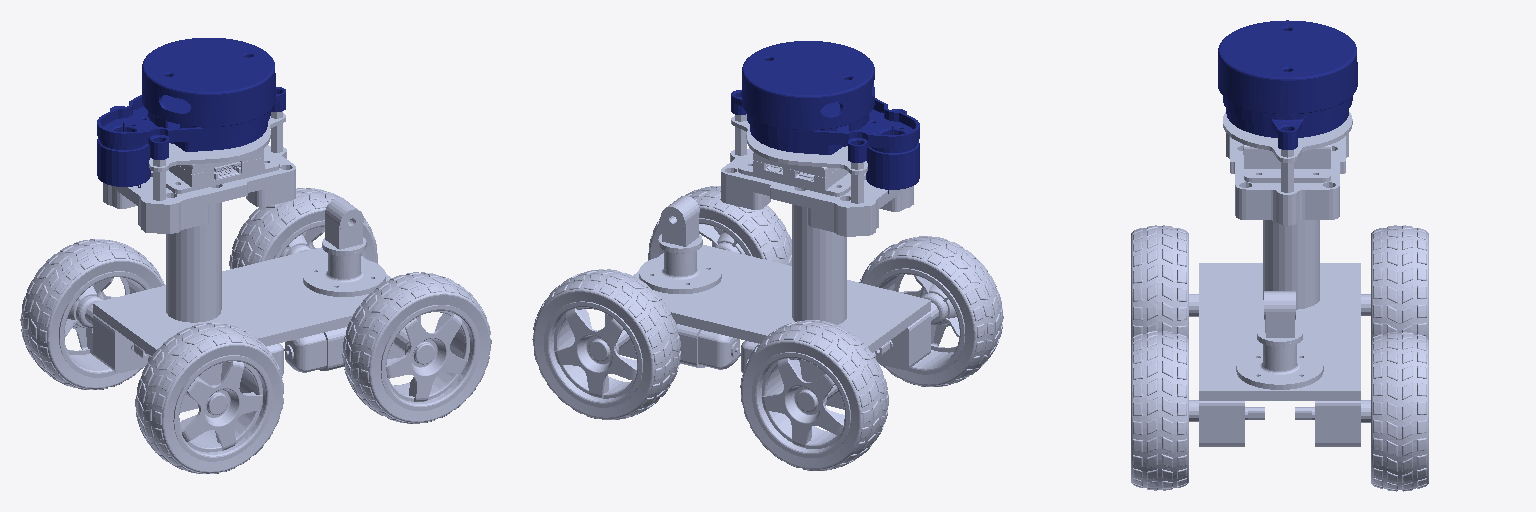
robot.urdf — carlike:
<?xml version="1.0" encoding="utf-8"?>
<robot name="carlike">
  <link
    name="base_link">
    <inertial>
      <origin
        xyz="-0.00875115335701394 0.00145434175744656 0.0197970202504017"
        rpy="0 0 0" />
      <mass
        value="0.247214592704957" />
      <inertia
        ixx="5.09846319877481E-05"
        ixy="3.14502704634609E-10"
        ixz="-2.29128940534497E-08"
        iyy="0.000138337528123073"
        iyz="6.07030102044357E-09"
        izz="0.000156119311243302" />
    </inertial>
    <visual>
      <origin
        xyz="0 0 0"
        rpy="0 0 0" />
      <geometry>
        <mesh
          filename="package://carlike/meshes/base_link.STL" />
      </geometry>
      <material
        name="base_link_material">
        <color
          rgba="0.792156862745098 0.819607843137255 0.933333333333333 1" />
      </material>
    </visual>
    <collision>
      <origin
        xyz="0 0 0"
        rpy="0 0 0" />
      <geometry>
        <mesh
          filename="package://carlike/meshes/base_link.STL" />
      </geometry>
    </collision>
  </link>
  <link
    name="r1_link">
    <inertial>
      <origin
        xyz="-1.61017610694411E-08 -9.37641352755092E-09 -0.00737298761809616"
        rpy="0 0 0" />
      <mass
        value="0.166945648008939" />
      <inertia
        ixx="6.72956832426971E-05"
        ixy="1.48103139716417E-09"
        ixz="2.77332492198932E-12"
        iyy="6.72934094491944E-05"
        iyz="1.61142783291259E-12"
        izz="0.000113206411587748" />
    </inertial>
    <visual>
      <origin
        xyz="0 0 0"
        rpy="0 0 0" />
      <geometry>
        <mesh
          filename="package://carlike/meshes/r1_link.STL" />
      </geometry>
      <material
        name="r1_link_material">
        <color
          rgba="0.792156862745098 0.819607843137255 0.933333333333333 1" />
      </material>
    </visual>
    <collision>
      <origin
        xyz="0 0 0"
        rpy="0 0 0" />
      <geometry>
        <mesh
          filename="package://carlike/meshes/r1_link.STL" />
      </geometry>
    </collision>
  </link>
  <joint
    name="r1_joint"
    type="continuous">
    <origin
      xyz="0.0535 -0.0597 -0.01"
      rpy="1.5707963267949 0 0" />
    <parent
      link="base_link" />
    <child
      link="r1_link" />
    <axis
      xyz="0 0 1" />
  </joint>
  <link
    name="r2_link">
    <inertial>
      <origin
        xyz="1.79692601492976E-08 4.92844177968355E-09 -0.00737298761809657"
        rpy="0 0 0" />
      <mass
        value="0.166945648008928" />
      <inertia
        ixx="6.72962683305461E-05"
        ixy="7.21635123749427E-10"
        ixz="-3.0940699050529E-12"
        iyy="6.72928243613378E-05"
        iyz="-8.45439850234771E-13"
        izz="0.000113206411587741" />
    </inertial>
    <visual>
      <origin
        xyz="0 0 0"
        rpy="0 0 0" />
      <geometry>
        <mesh
          filename="package://carlike/meshes/r2_link.STL" />
      </geometry>
      <material
        name="r2_link_material">
        <color
          rgba="0.792156862745098 0.819607843137255 0.933333333333333 1" />
      </material>
    </visual>
    <collision>
      <origin
        xyz="0 0 0"
        rpy="0 0 0" />
      <geometry>
        <mesh
          filename="package://carlike/meshes/r2_link.STL" />
      </geometry>
    </collision>
  </link>
  <joint
    name="r2_joint"
    type="continuous">
    <origin
      xyz="-0.0542 -0.0597 -0.01"
      rpy="1.5707963267949 0 0" />
    <parent
      link="base_link" />
    <child
      link="r2_link" />
    <axis
      xyz="0 0 1" />
  </joint>
  <link
    name="l1_link">
    <inertial>
      <origin
        xyz="1.60286626341502E-08 9.50082462009005E-09 0.00737298761809532"
        rpy="0 0 0" />
      <mass
        value="0.166945648008979" />
      <inertia
        ixx="6.72952077919434E-05"
        ixy="1.745988953354E-09"
        ixz="2.7576417613168E-12"
        iyy="6.72938848999752E-05"
        iyz="1.6381209825726E-12"
        izz="0.000113206411587776" />
    </inertial>
    <visual>
      <origin
        xyz="0 0 0"
        rpy="0 0 0" />
      <geometry>
        <mesh
          filename="package://carlike/meshes/l1_link.STL" />
      </geometry>
      <material
        name="l1_link_material">
        <color
          rgba="0.792156862745098 0.819607843137255 0.933333333333333 1" />
      </material>
    </visual>
    <collision>
      <origin
        xyz="0 0 0"
        rpy="0 0 0" />
      <geometry>
        <mesh
          filename="package://carlike/meshes/l1_link.STL" />
      </geometry>
    </collision>
  </link>
  <joint
    name="l1_joint"
    type="continuous">
    <origin
      xyz="0.0542 0.0597 -0.00999999999999999"
      rpy="1.5707963267949 0 0" />
    <parent
      link="base_link" />
    <child
      link="l1_link" />
    <axis
      xyz="0 0 1" />
  </joint>
  <link
    name="l2_link">
    <inertial>
      <origin
        xyz="1.47071355233175E-08 1.14404548820501E-08 0.00737298761809749"
        rpy="0 0 0" />
      <mass
        value="0.166945648008911" />
      <inertia
        ixx="6.72947513832686E-05"
        ixy="1.85578767187576E-09"
        ixz="2.52983122062295E-12"
        iyy="6.72943413086046E-05"
        iyz="1.97179646661437E-12"
        izz="0.000113206411587729" />
    </inertial>
    <visual>
      <origin
        xyz="0 0 0"
        rpy="0 0 0" />
      <geometry>
        <mesh
          filename="package://carlike/meshes/l2_link.STL" />
      </geometry>
      <material
        name="l2_link_material">
        <color
          rgba="0.792156862745098 0.819607843137255 0.933333333333333 1" />
      </material>
    </visual>
    <collision>
      <origin
        xyz="0 0 0"
        rpy="0 0 0" />
      <geometry>
        <mesh
          filename="package://carlike/meshes/l2_link.STL" />
      </geometry>
    </collision>
  </link>
  <joint
    name="l2_joint"
    type="continuous">
    <origin
      xyz="-0.0542 0.0597 -0.01"
      rpy="1.5707963267949 0 0" />
    <parent
      link="base_link" />
    <child
      link="l2_link" />
    <axis
      xyz="0 0 1" />
  </joint>
  <link
    name="lidar_link">
    <inertial>
      <origin
        xyz="-0.0124775361822262 1.27378904138942E-05 -0.0236676181502307"
        rpy="0 0 0" />
      <mass
        value="0.0380002378726907" />
      <inertia
        ixx="8.19362064344397E-06"
        ixy="1.7203605393884E-08"
        ixz="-2.240976969835E-06"
        iyy="2.17926600540757E-05"
        iyz="1.47459599019032E-09"
        izz="2.74503938407733E-05" />
    </inertial>
    <visual>
      <origin
        xyz="0 0 0"
        rpy="0 0 0" />
      <geometry>
        <mesh
          filename="package://carlike/meshes/lidar_link.STL" />
      </geometry>
      <material
        name="lidar_link_material">
        <color
          rgba="0.188235294117647 0.231372549019608 0.588235294117647 1" />
      </material>
    </visual>
    <collision>
      <origin
        xyz="0 0 0"
        rpy="0 0 0" />
      <geometry>
        <mesh
          filename="package://carlike/meshes/lidar_link.STL" />
      </geometry>
    </collision>
  </link>
  <joint
    name="lidar_joint"
    type="fixed">
    <origin
      xyz="-0.0229989584518159 0.00331756857310458 0.126319"
      rpy="0 0 0" />
    <parent
      link="base_link" />
    <child
      link="lidar_link" />
    <axis
      xyz="0 0 0" />
  </joint>

<gazebo reference="lidar_link">
   <material>Gazebo/FlatBlack</material>
   
   <sensor type="ray" name="head_rplidar_sensor">
      <pose>0 0 0 0 0 0</pose>
      <visualize>true</visualize>
      <update_rate>30.0</update_rate>
      
      <ray>
         <scan>
            <horizontal>
               <samples>600</samples>
               <resolution>1</resolution>
               <min_angle>0.0</min_angle>
               <max_angle>6.28319</max_angle>
            </horizontal>
         </scan>
         
         <range>
            <min>0.120</min>
            <max>10</max>
            <resolution>0.015</resolution>
         </range>
      </ray>
      
      <plugin name="gazebo_ros_head_rplidar_controller" filename="libgazebo_ros_laser.so">
         <topicName>scan</topicName>
         <frameName>lidar_link</frameName>
         <gaussianNoise>0.01</gaussianNoise> 
      </plugin>
   </sensor>
</gazebo> 

  <link name="base_footprint"/>

  <joint name="base_footprint_to_base_link" type="fixed">
    <parent link="base_footprint"/>
    <child link="base_link"/>
  </joint>

  <gazebo>
    <plugin name="skid_steer_drive_controller" filename="libgazebo_ros_skid_steer_drive.so">
      <updateRate>100.0</updateRate>
      <robotNamespace></robotNamespace>

      <leftFrontJoint>l1_joint</leftFrontJoint>
      <rightFrontJoint>r1_joint</rightFrontJoint>
      <leftRearJoint>l2_joint</leftRearJoint>
      <rightRearJoint>r2_joint</rightRearJoint>
      <wheelSeparation>0.5</wheelSeparation>
      <wheelDiameter>0.1</wheelDiameter>

      <torque>1.0</torque>

      <broadcastTF>true</broadcastTF>
      <commandTopic>cmd_vel</commandTopic>
      <odometryTopic>odom</odometryTopic>
      <odometryFrame>odom</odometryFrame>
      <robotBaseFrame>base_footprint</robotBaseFrame>
      <publishWheelTF>true</publishWheelTF>
      <publishOdom>true</publishOdom>
      <publishWheelJointState>true</publishWheelJointState>
      <covariance_x>0.0001</covariance_x>
      <covariance_y>0.0001</covariance_y>
      <covariance_yaw>0.01</covariance_yaw>
    </plugin>
  </gazebo>
</robot>

--- What the picture shows (computed from the rendered views, not written in the file) ---
The picture shows the robot from 3 angles, left to right: view 1: azimuth 30°, elevation 25°; view 2: azimuth 150°, elevation 25°; view 3: azimuth 270°, elevation 25°; orthographic projection.
Model carlike with 7 links and 6 joints (4 continuous, 2 fixed), rooted at base_footprint, posed every joint at zero.
Visible links, largest first — view 1: base_link, lidar_link, r1_link, r2_link, l2_link, l1_link; view 2: base_link, lidar_link, l2_link, l1_link, r2_link, r1_link; view 3: base_link, lidar_link, l1_link, r1_link, l2_link, r2_link.
Link boxes in pixels (bbox=[...]): base_link: bbox=[93, 111, 420, 412]; lidar_link: bbox=[97, 38, 285, 187]; r1_link: bbox=[342, 272, 491, 423]; r2_link: bbox=[135, 323, 283, 473]; l2_link: bbox=[20, 239, 164, 389]; l1_link: bbox=[229, 188, 377, 268]; base_link: bbox=[605, 114, 930, 409]; lidar_link: bbox=[731, 41, 919, 193]; l2_link: bbox=[740, 320, 888, 470]; l1_link: bbox=[532, 269, 680, 419]; r2_link: bbox=[859, 236, 1003, 386]; r1_link: bbox=[648, 186, 791, 265]; base_link: bbox=[1199, 112, 1360, 446]; lidar_link: bbox=[1218, 20, 1357, 149]; l1_link: bbox=[1361, 332, 1428, 491]; r1_link: bbox=[1131, 331, 1198, 490]; l2_link: bbox=[1361, 225, 1428, 339]; r2_link: bbox=[1131, 225, 1198, 338].
Size in the robot's own frame: 0.1773 by 0.1284 by 0.1708 metres.
6 mesh visuals loaded from 6 distinct referenced files (6 binary STL).
